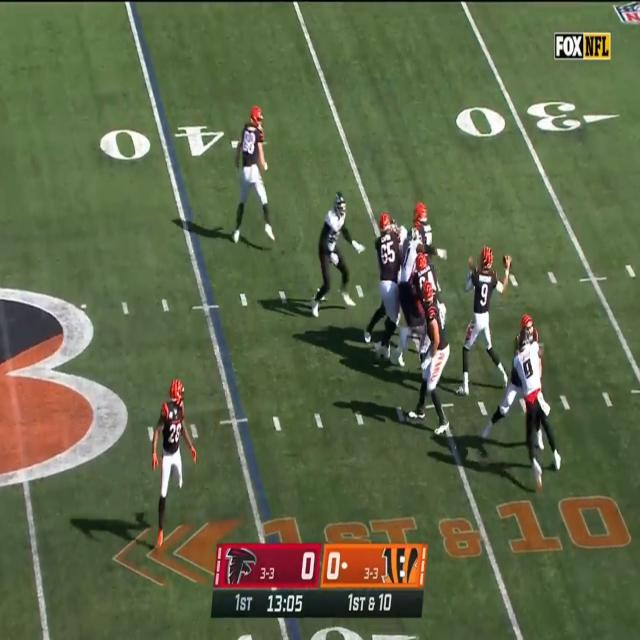Ball: (502, 255, 513, 273)
